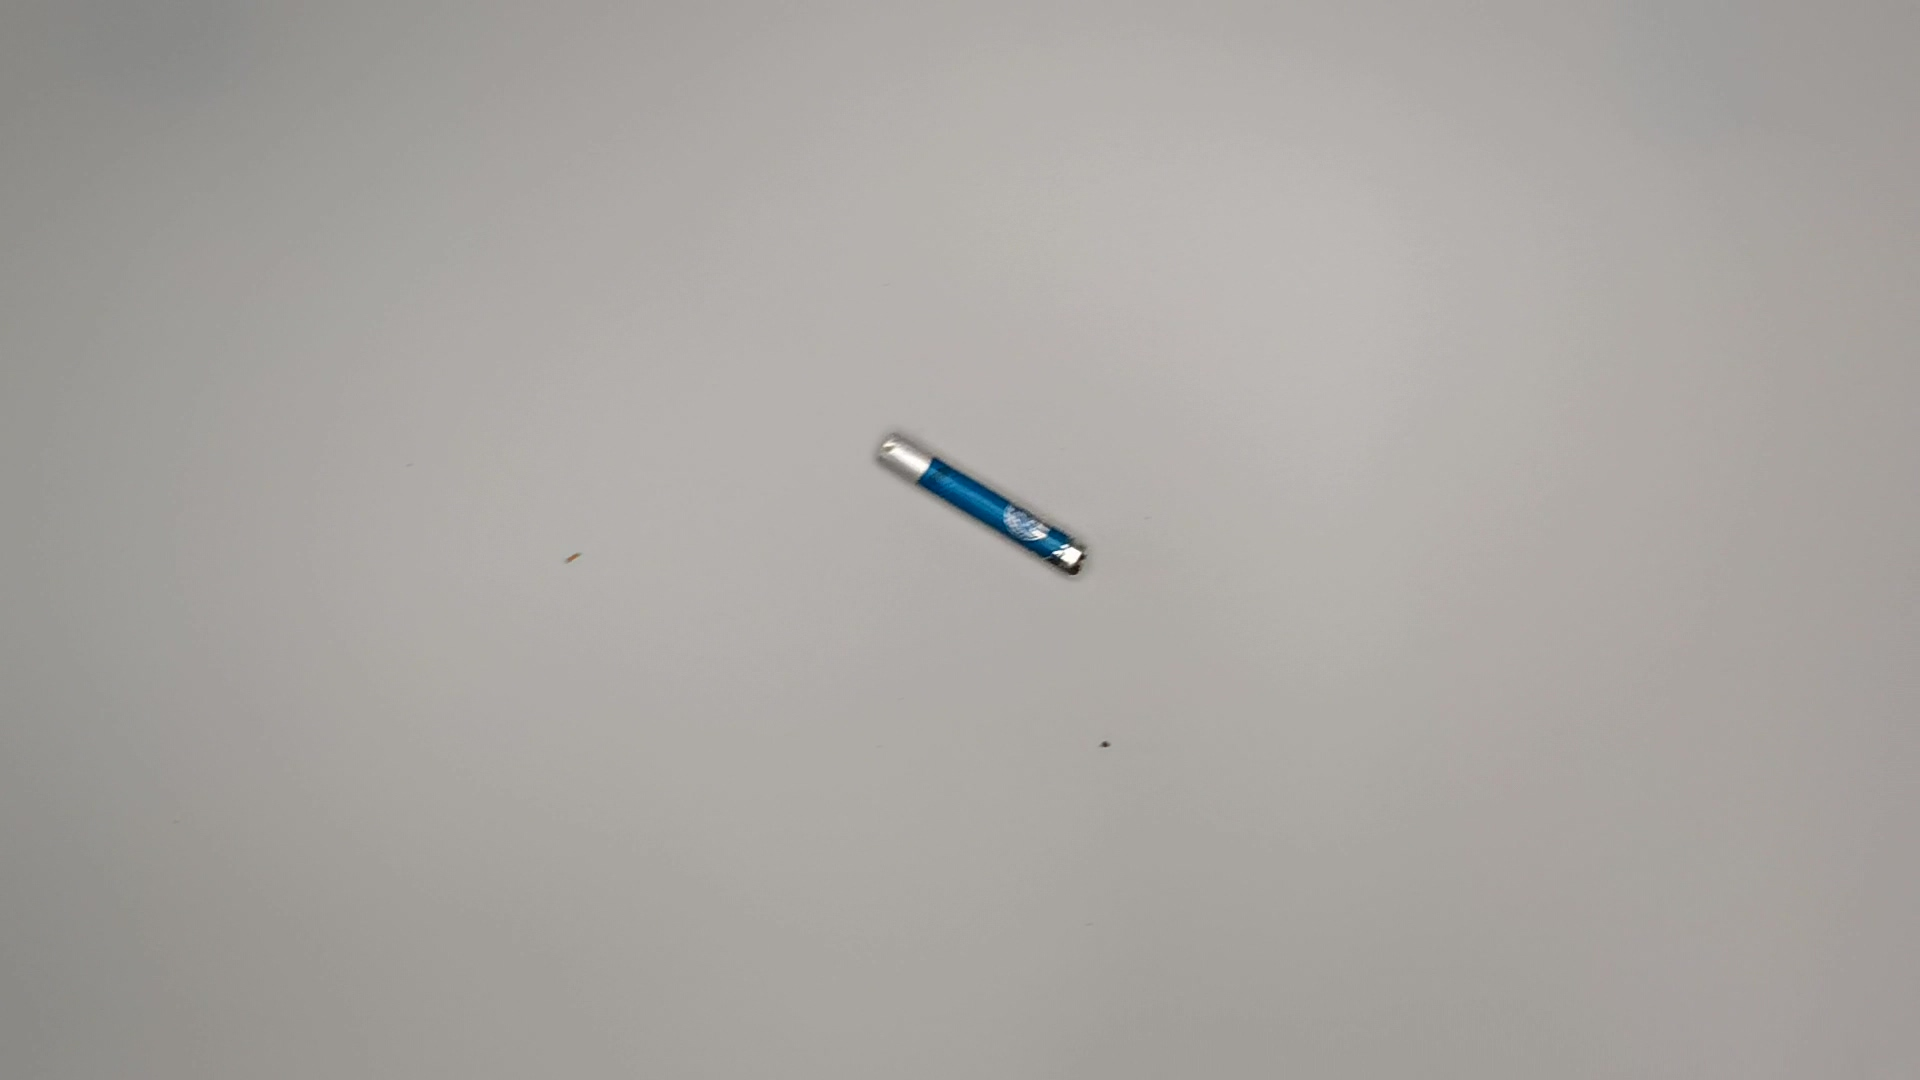cigarette: (873, 433, 1095, 587)
